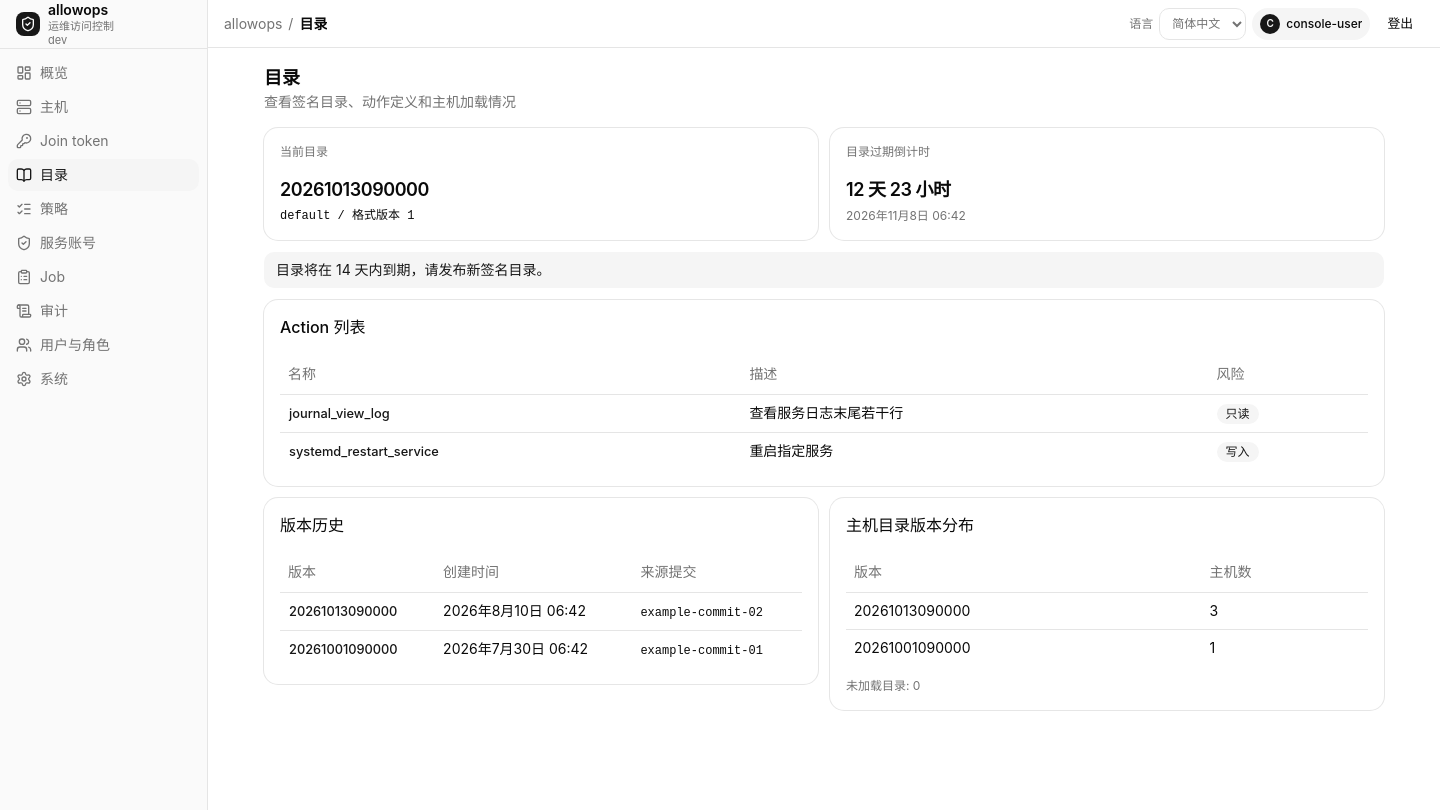
gateway catalog definitions › renders a canonical action with optional fields or another execution mode
The width and height of the screenshot is (1440, 810).
Click the button "journal_view_log".
click(339, 414)  # box [288,404,391,424]
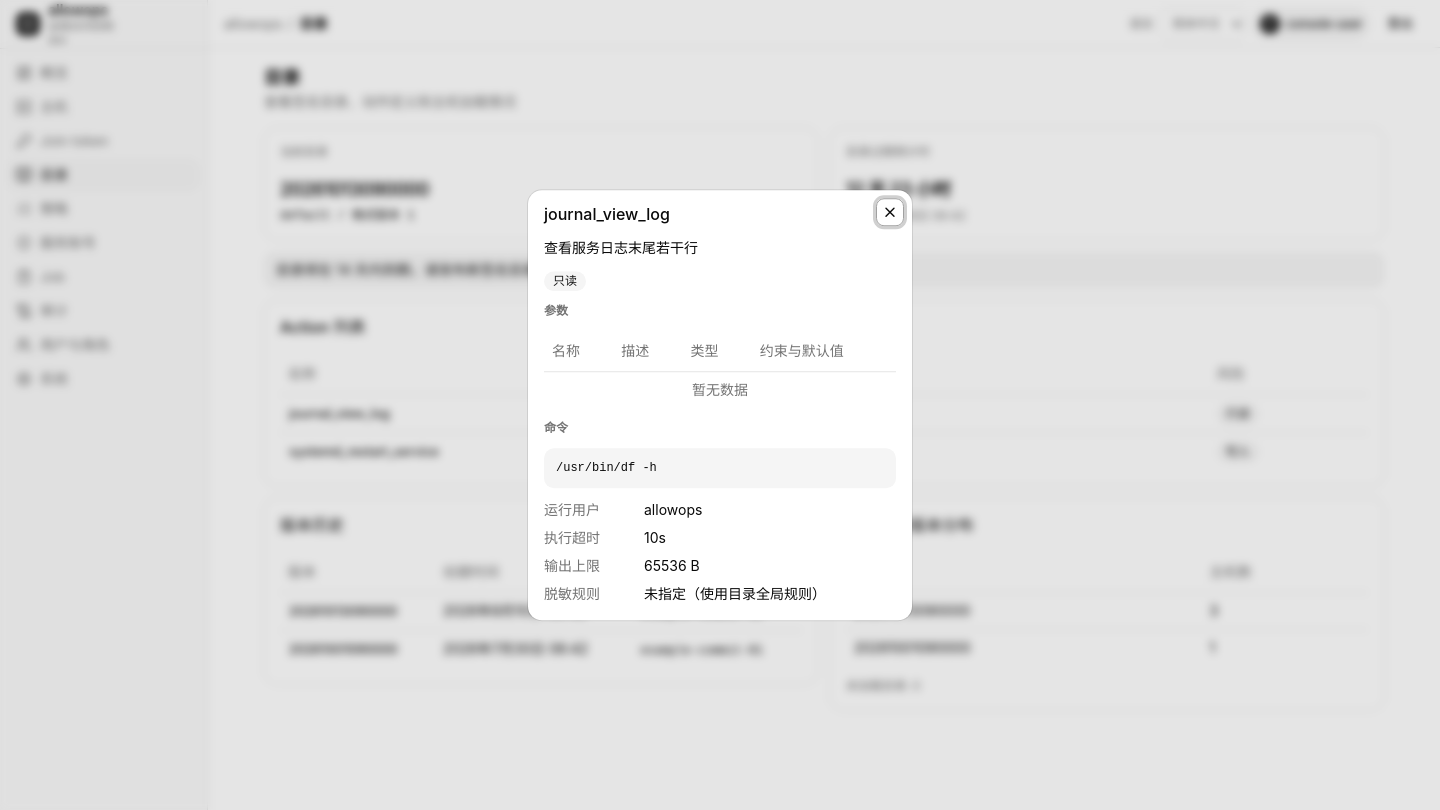
Expected: the text "/usr/bin/df -h" is shown, [544,448,896,488]
Expected: the text "未指定（使用目录全局规则）" is shown, [644,585,826,602]
